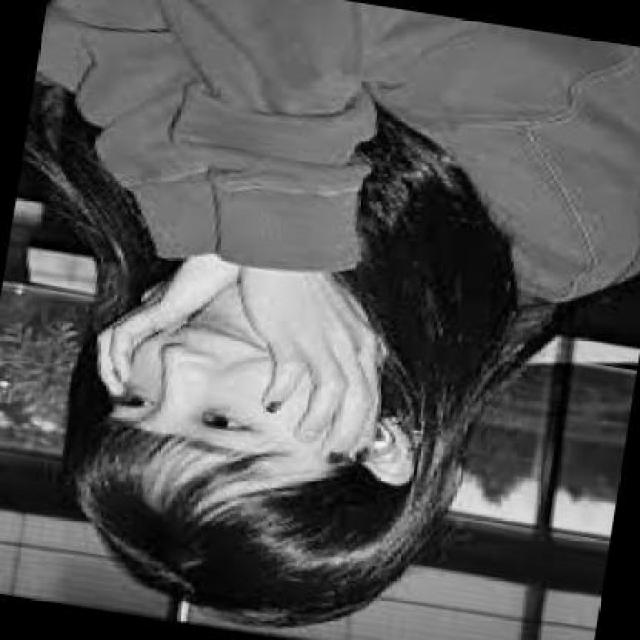earphone: (359, 405, 405, 479)
